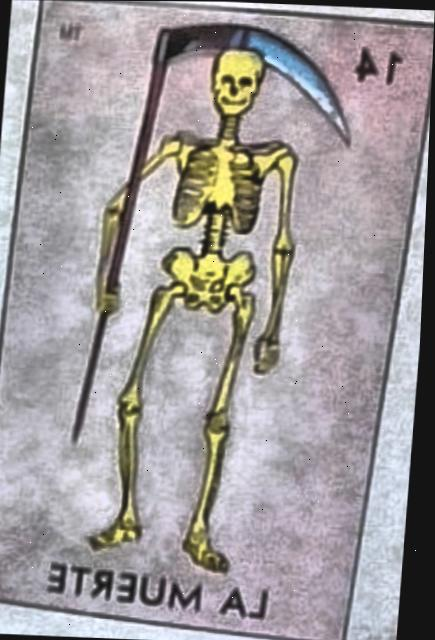La Muerte: (0, 1, 434, 640)
